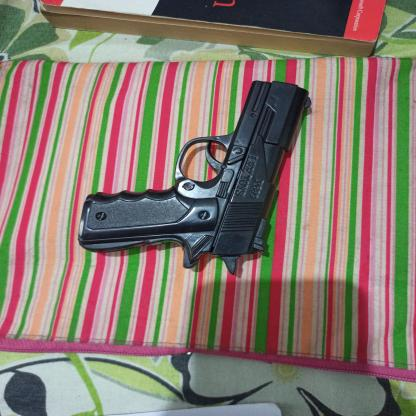handgun: (75, 77, 315, 276)
